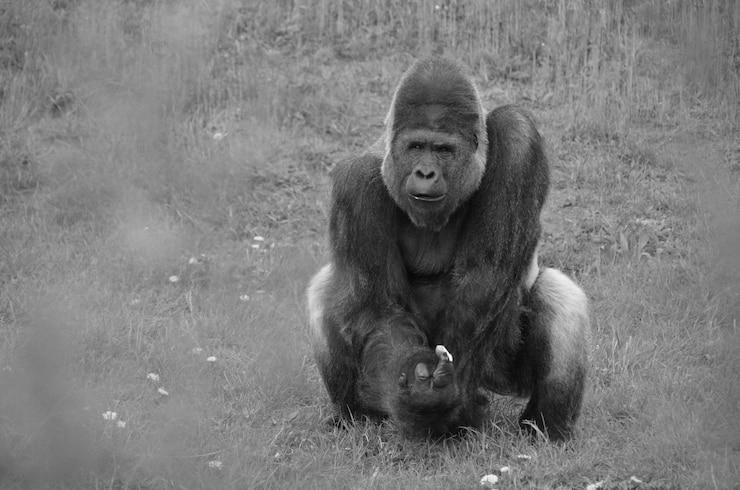gorille_Autres: (290, 28, 637, 462)
